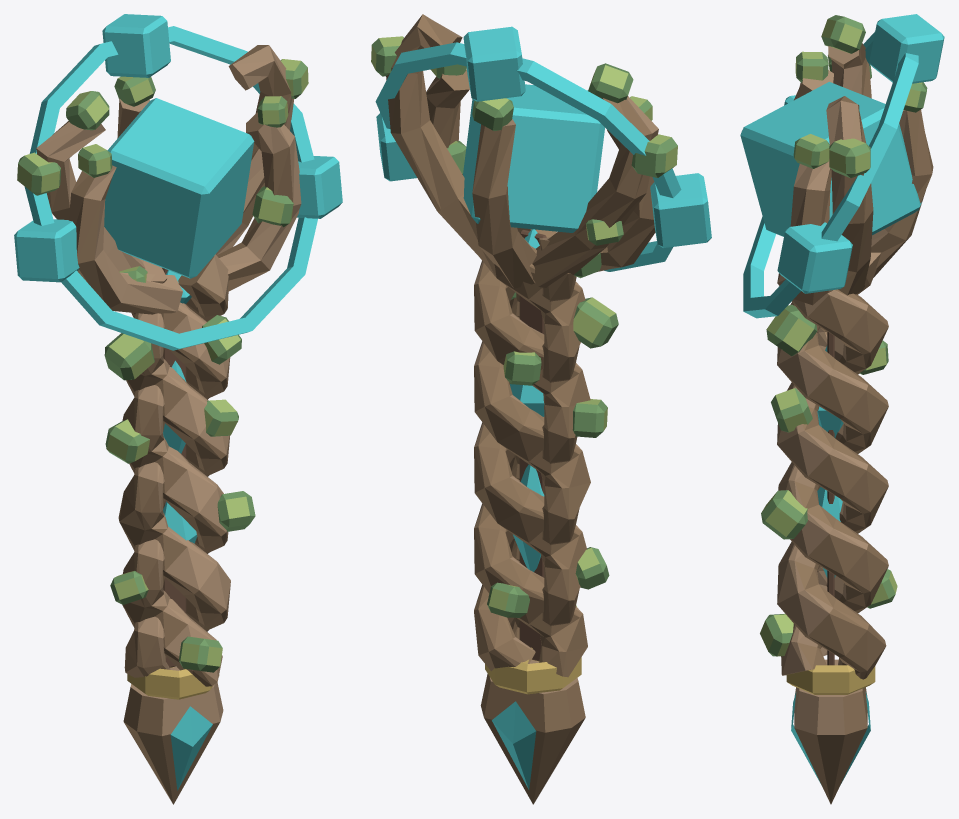
The model's file is worldroot_staff_roblox.glb.
The picture shows the model from 3 angles, left to right: view 1: azimuth 30°, elevation 25°; view 2: azimuth 150°, elevation 25°; view 3: azimuth 270°, elevation 25°; orthographic projection. The views are drawn at different scales.
Parts seen in each view (by area): view 1: Staff, Glow, Leaves; view 2: Staff, Glow, Leaves; view 3: Staff, Glow, Leaves.
Boxes of the visible parts, x1,y1,x2,y2 form: Staff: (36, 45, 301, 804); Glow: (14, 14, 342, 790); Leaves: (17, 59, 308, 672); Staff: (386, 14, 658, 804); Glow: (375, 26, 711, 789); Leaves: (371, 36, 677, 617); Staff: (777, 43, 933, 804); Glow: (740, 14, 944, 785); Leaves: (760, 15, 927, 656).
Size of the model in its own units: 0.5992 by 1.37 by 0.3231.
